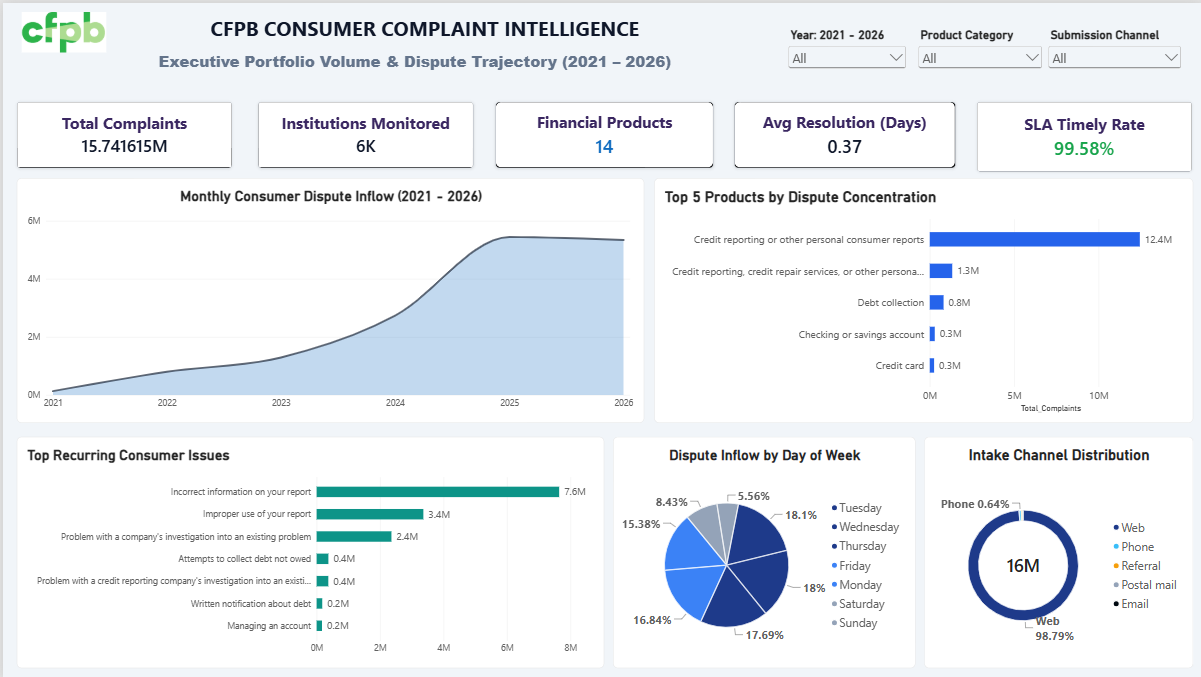

The dashboard page shown, as its layout file describes it:
{"tool":"powerbi","page":{"name":"Executive Overview","canvas":[1920,1080],"ordinal":0},"visuals":[{"type":"cardVisual","fields":{"Data":["Query1.Total_Complaints"]},"box":[22,158,345,106],"z":0},{"type":"textbox","box":[98,18,1154,58],"z":1000},{"type":"textbox","box":[98,76,1130,40],"z":2000},{"type":"slicer","fields":{"Values":["Query1.year"]},"box":[1252.5,40,197.5,87.5],"z":3000},{"type":"slicer","fields":{"Values":["Query1.product"]},"box":[1460,40,207.5,87.5],"z":4000},{"type":"slicer","fields":{"Values":["Query1.submitted_via"]},"box":[1668,40,222,88],"z":5000},{"type":"cardVisual","fields":{"Data":["_Measures.Distinct Companies"]},"box":[408,158,345,106],"z":6000},{"type":"cardVisual","fields":{"Data":["_Measures.Distinct Products"]},"box":[788,158,349,106],"z":7000},{"type":"cardVisual","fields":{"Data":["_Measures.Timely Response Rate Pct"]},"box":[1558,158,345,112],"z":8000},{"type":"cardVisual","fields":{"Data":["_Measures.Avg Response Days"]},"box":[1170,158,354,106],"z":9000},{"type":"areaChart","title":"Monthly Consumer Dispute Inflow (2021 - 2026)","fields":{"Category":["Query1.date_received..Variation.Date Hierarchy.Year","Query1.date_received..Variation.Date Hierarchy.Month"],"Y":["Query1.Total_Complaints"]},"box":[22,280,1004,392],"z":10000},{"type":"clusteredBarChart","title":"Top 5 Products by Dispute Concentration","fields":{"Category":["Query1.product"],"Y":["Query1.Total_Complaints"]},"box":[1042,280,862,392],"z":11000},{"type":"donutChart","title":"Intake Channel Distribution","fields":{"Category":["Query1.submitted_via"],"Y":["Query1.Total_Complaints"]},"box":[1474,694,430,370],"z":12000},{"type":"clusteredBarChart","title":"Top Recurring Consumer Issues","fields":{"Category":["Query1.issue"],"Y":["Query1.Total_Complaints"]},"box":[22,694,940,370],"z":13000},{"type":"image","box":[30,7.5,135,77.5],"z":13001},{"type":"pieChart","title":"Dispute Inflow by Day of Week","fields":{"Category":["Query1.day_of_week"],"Y":["Query1.Total_Complaints"]},"box":[976,694,484,370],"z":13002}]}

Visuals, with their boxes in screenshot pixels (x1, y1, x2, y2), scaled from the page's 1920x1080 canvas onto the 1201x677 screenshot:
cardVisual - Query1.Total_Complaints: (left=14, top=99, right=230, bottom=165)
textbox: (left=61, top=11, right=783, bottom=48)
textbox: (left=61, top=48, right=768, bottom=73)
slicer - Query1.year: (left=783, top=25, right=907, bottom=80)
slicer - Query1.product: (left=913, top=25, right=1043, bottom=80)
slicer - Query1.submitted_via: (left=1043, top=25, right=1182, bottom=80)
cardVisual - _Measures.Distinct Companies: (left=255, top=99, right=471, bottom=165)
cardVisual - _Measures.Distinct Products: (left=493, top=99, right=711, bottom=165)
cardVisual - _Measures.Timely Response Rate Pct: (left=975, top=99, right=1190, bottom=169)
cardVisual - _Measures.Avg Response Days: (left=732, top=99, right=953, bottom=165)
"Monthly Consumer Dispute Inflow (2021 - 2026)" areaChart: (left=14, top=176, right=642, bottom=421)
"Top 5 Products by Dispute Concentration" clusteredBarChart: (left=652, top=176, right=1191, bottom=421)
"Intake Channel Distribution" donutChart: (left=922, top=435, right=1191, bottom=667)
"Top Recurring Consumer Issues" clusteredBarChart: (left=14, top=435, right=602, bottom=667)
image: (left=19, top=5, right=103, bottom=53)
"Dispute Inflow by Day of Week" pieChart: (left=611, top=435, right=913, bottom=667)
